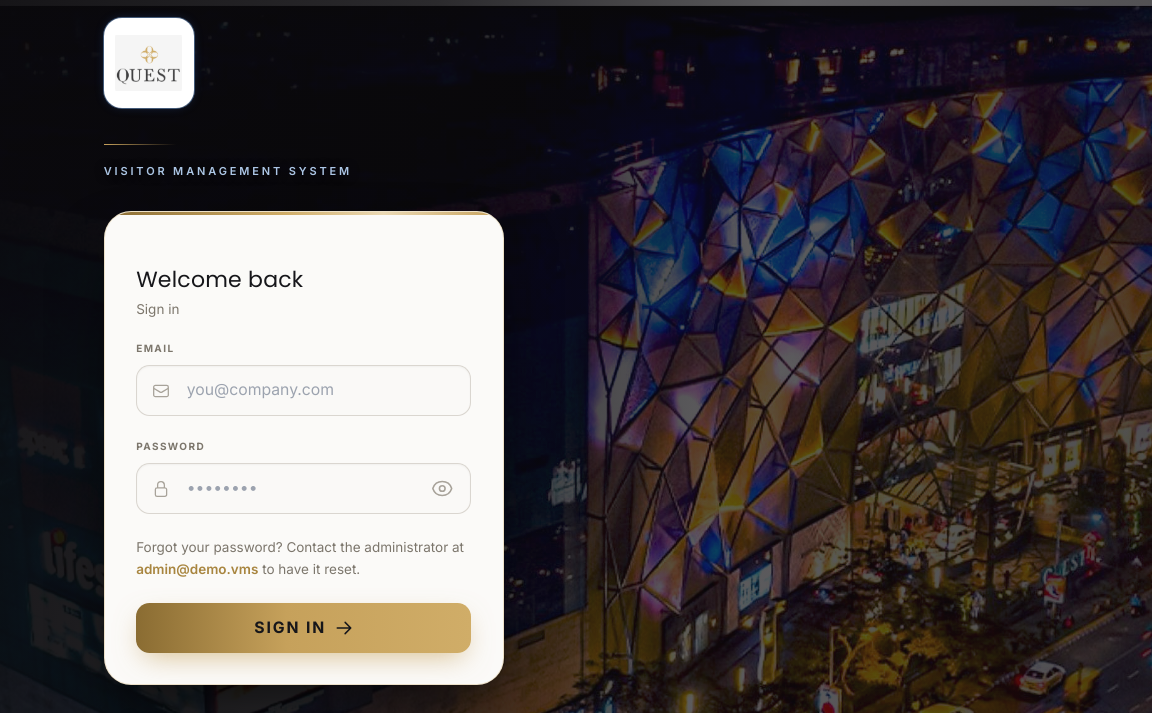
Test: M12-LOGIN: LoginPage › shows loading state while authenticating
Type "test@test.com" into the field with placeholder "you@company.com" at point(304, 391), box [136,365,471,416]
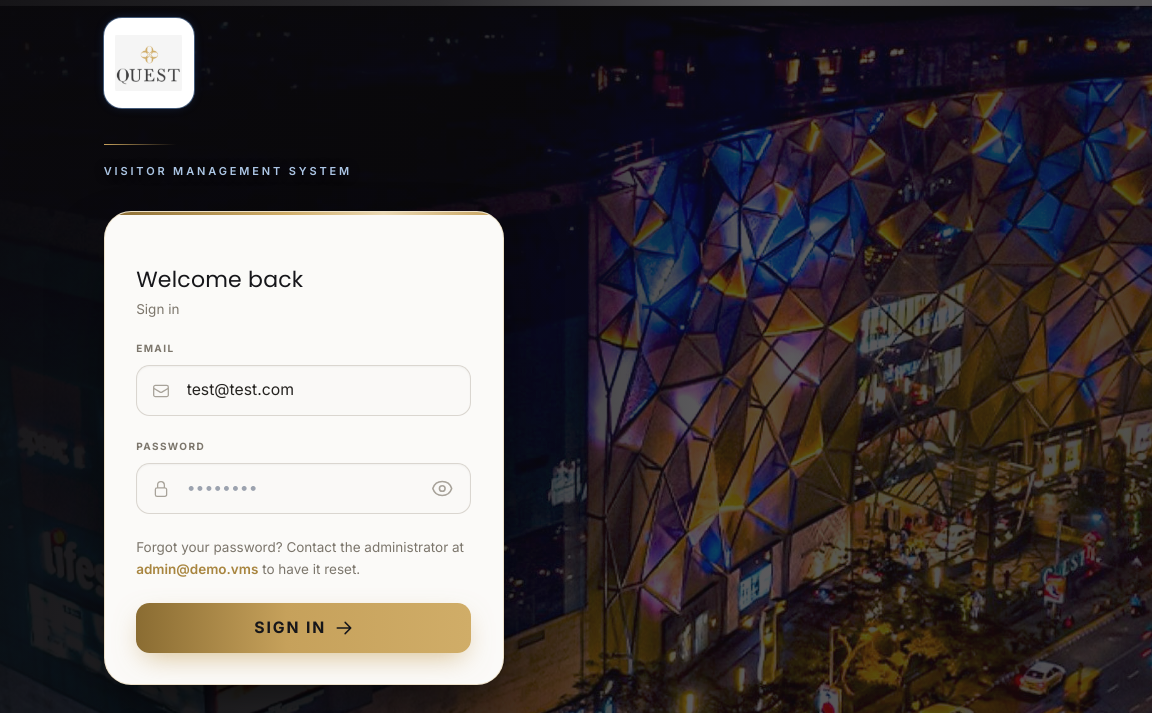
Type "password123" into the password field with placeholder "••••••••" at point(304, 489), box [136,463,471,514]
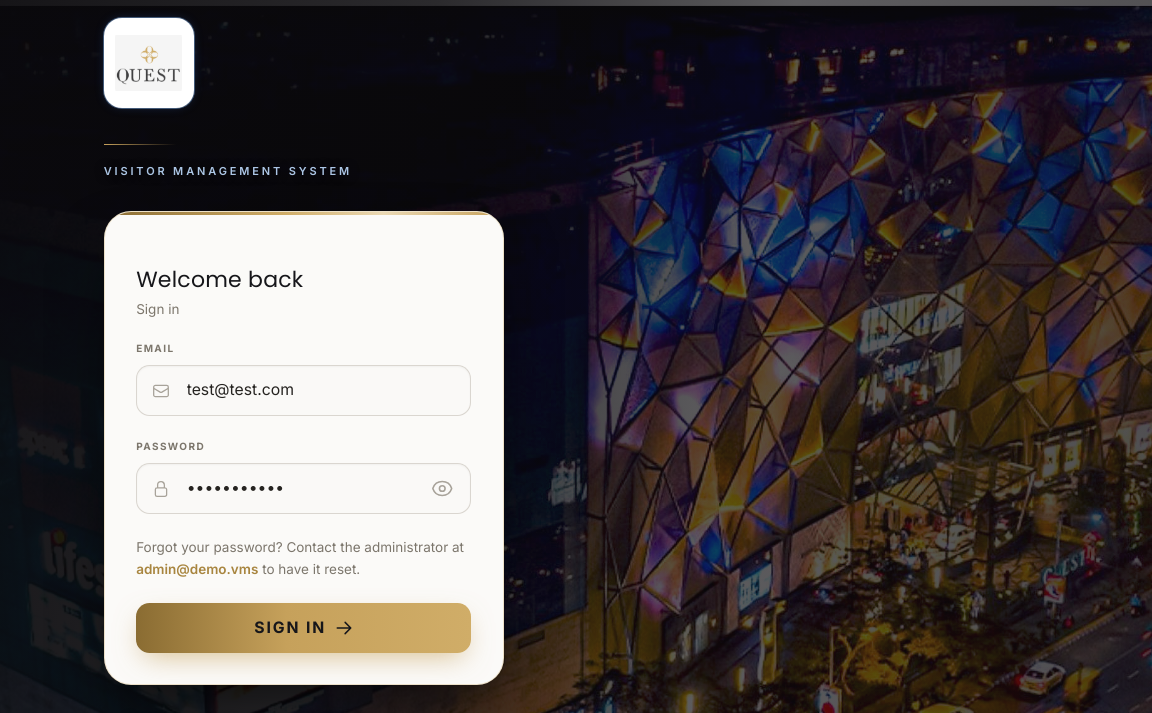
Click the button "Sign In" at point(304, 628), box [136,603,471,653]
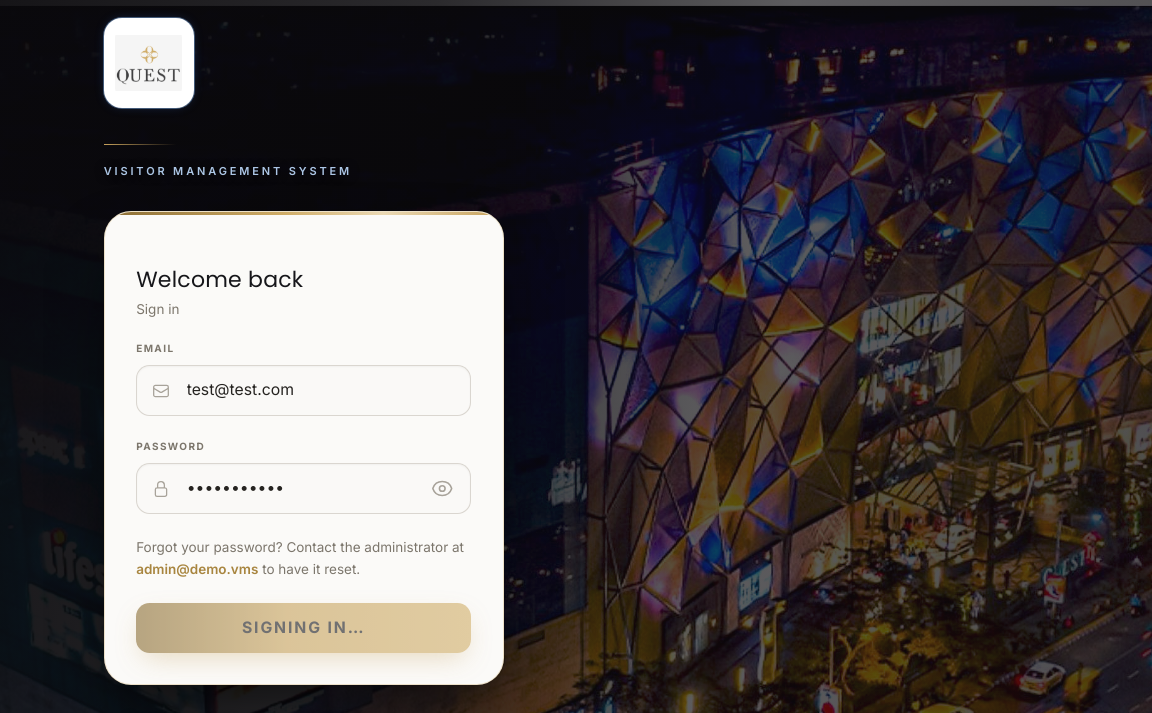
Expected: the button "Signing in…" is shown, [136,603,471,653]
